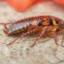cockroach: (6, 16, 64, 36)
